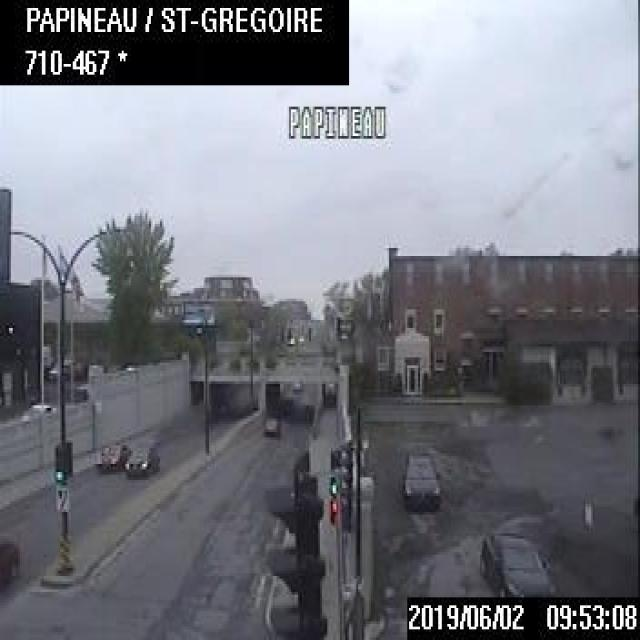vehicle: (476, 531, 557, 593), (398, 448, 443, 510), (120, 440, 158, 475), (0, 533, 20, 592), (92, 439, 127, 470), (262, 416, 280, 435)
